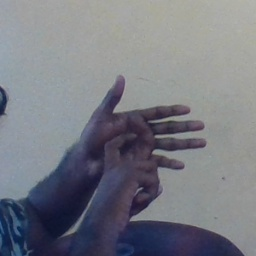R: (70, 74, 210, 216)
